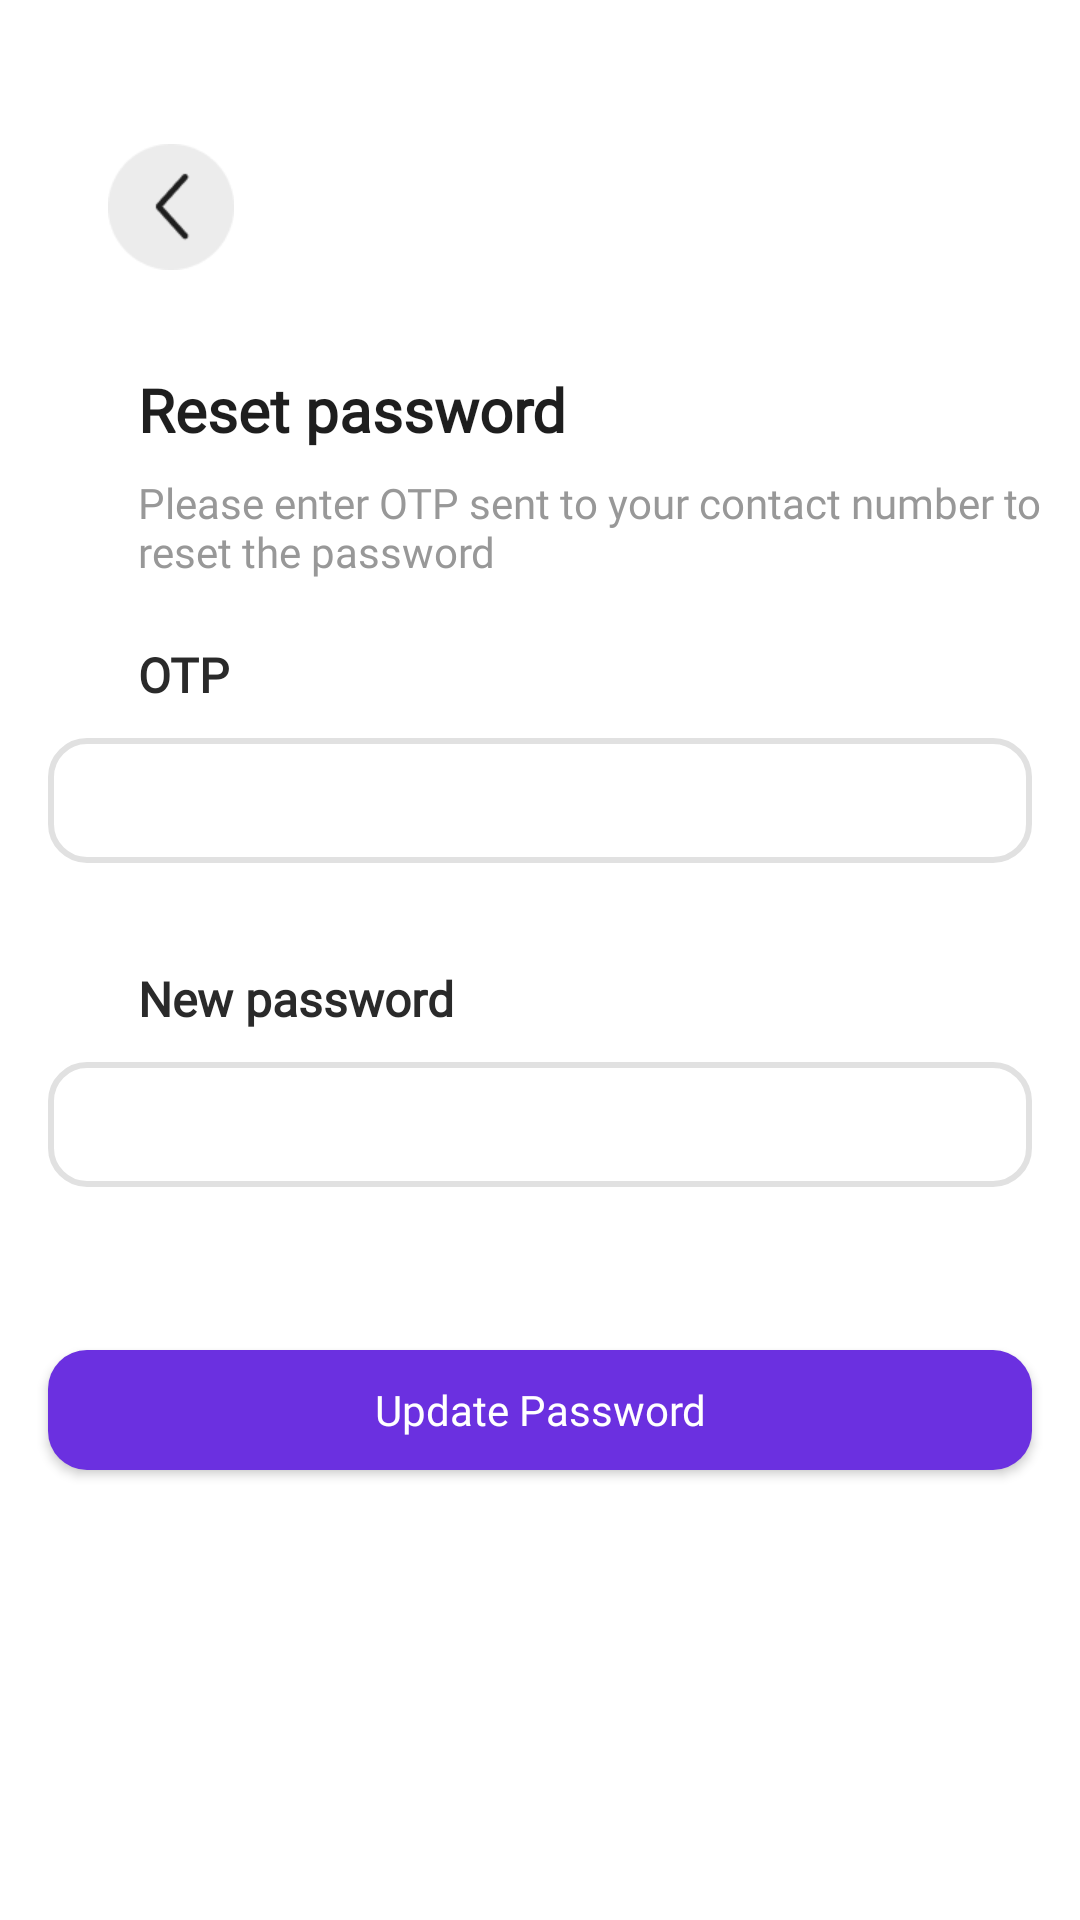

Where to tap for icons on this 1080px×1920px app screen, as [x,y]:
back: [171,207]
